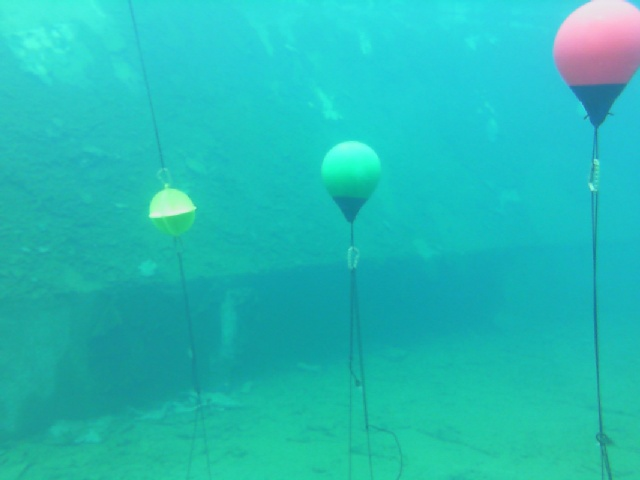buoy_green: (320, 136, 381, 225)
buoy_yellow: (148, 182, 198, 240)
